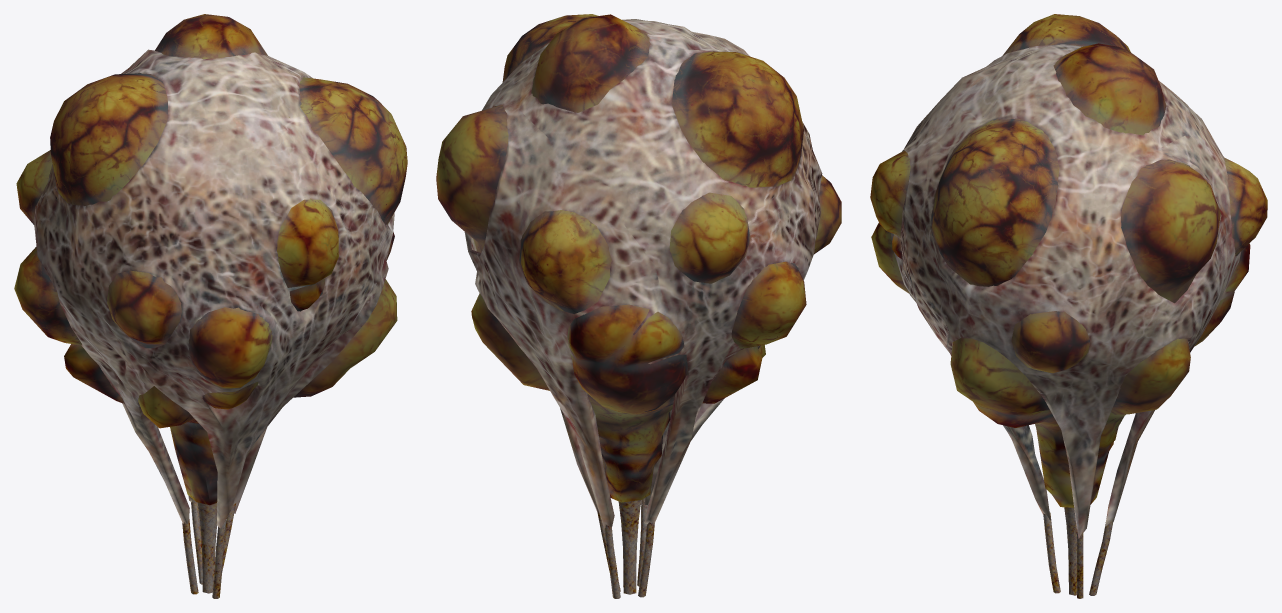
File: P_CircusBalloon01.fbx
The picture shows the model from 3 angles, left to right: view 1: azimuth 30°, elevation 25°; view 2: azimuth 150°, elevation 25°; view 3: azimuth 270°, elevation 25°; orthographic projection. The views are drawn at different scales.
Parts seen in each view (by area): view 1: P_CircusBalloon01; view 2: P_CircusBalloon01; view 3: P_CircusBalloon01.
Part boxes in pixels (x1,y1,x2,y2): P_CircusBalloon01: [14, 14, 407, 598]; P_CircusBalloon01: [436, 14, 841, 598]; P_CircusBalloon01: [870, 14, 1267, 598].
Size of the model in its own units: 411 by 637 by 415.
